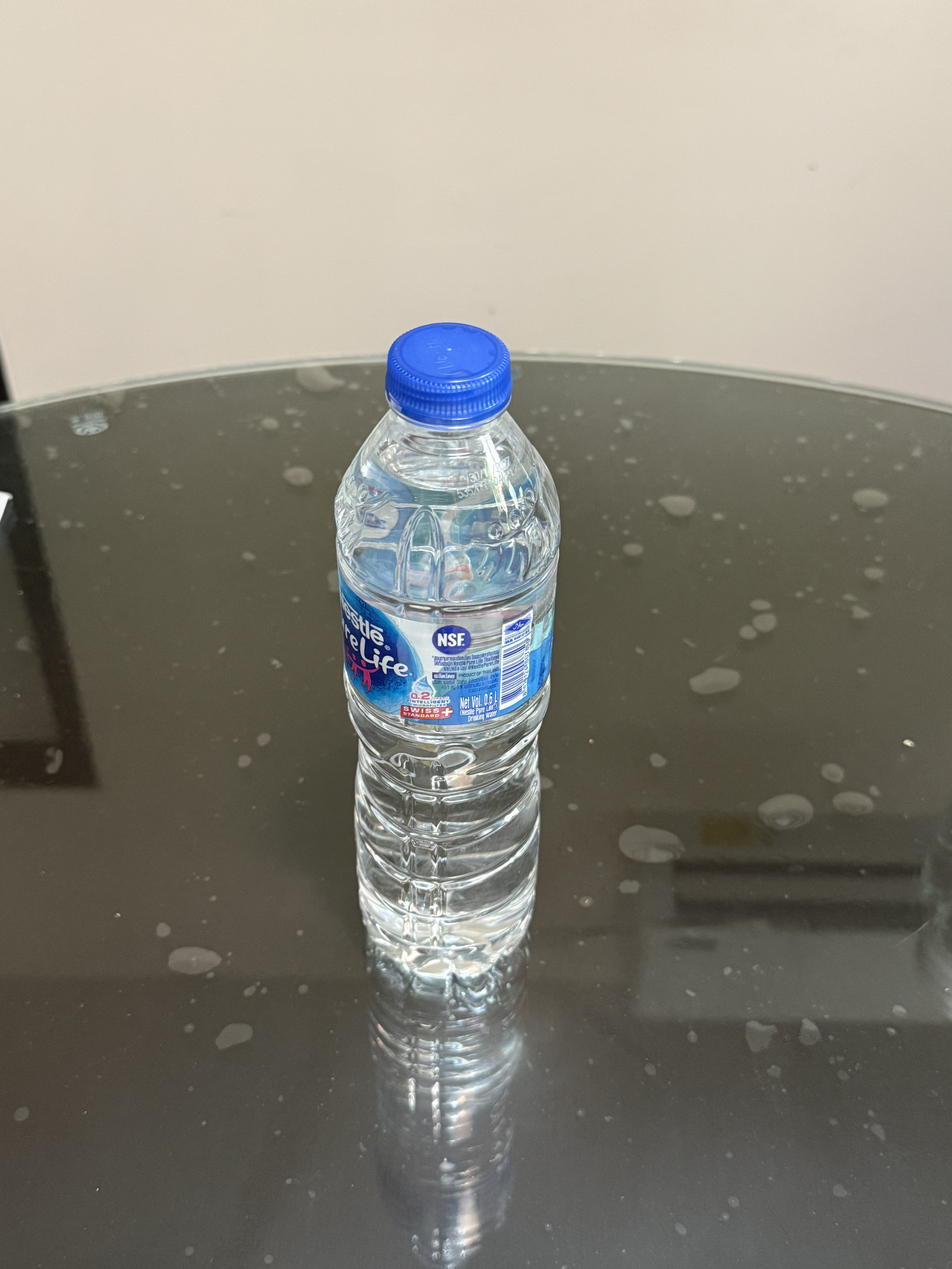closed_cap: (383, 319, 514, 427)
